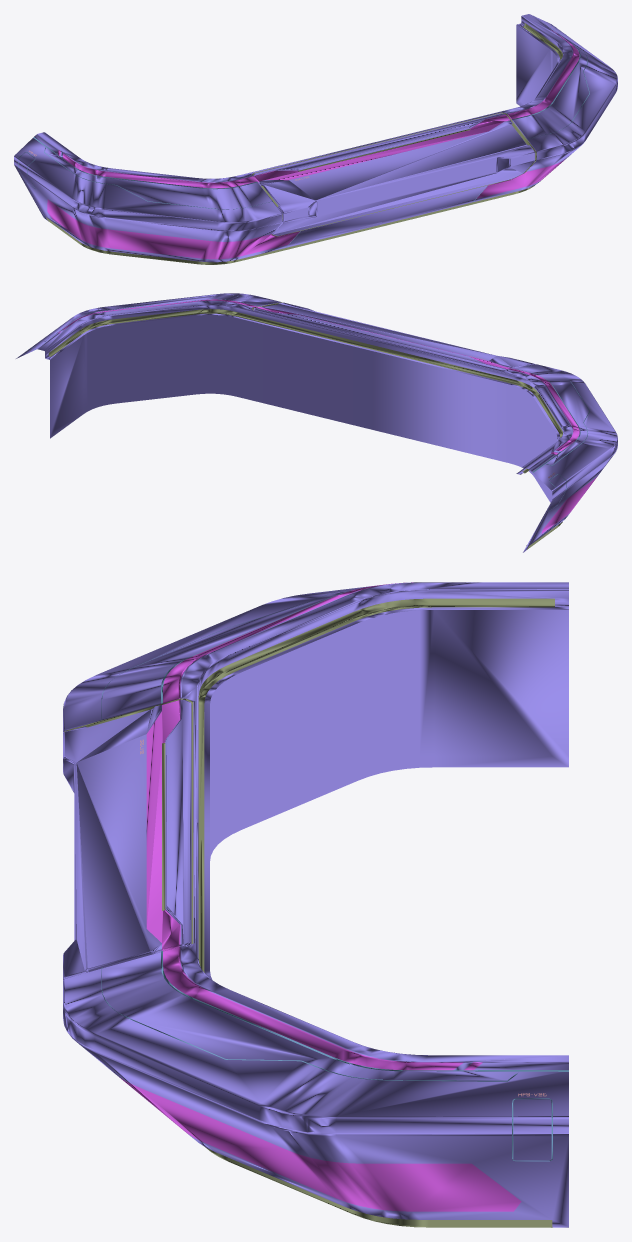
File: plate_48_cap_c_trim_a.glb
3 views of the same model, one above another, from view 1: azimuth 30°, elevation 25°; view 2: azimuth 150°, elevation 25°; view 3: azimuth 270°, elevation 25° (orthographic). The views are drawn at different scales.
Bounding box in the file's own units: 55.44 × 8.5 × 22.55.
